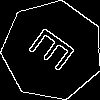E: (27, 25, 85, 79)
